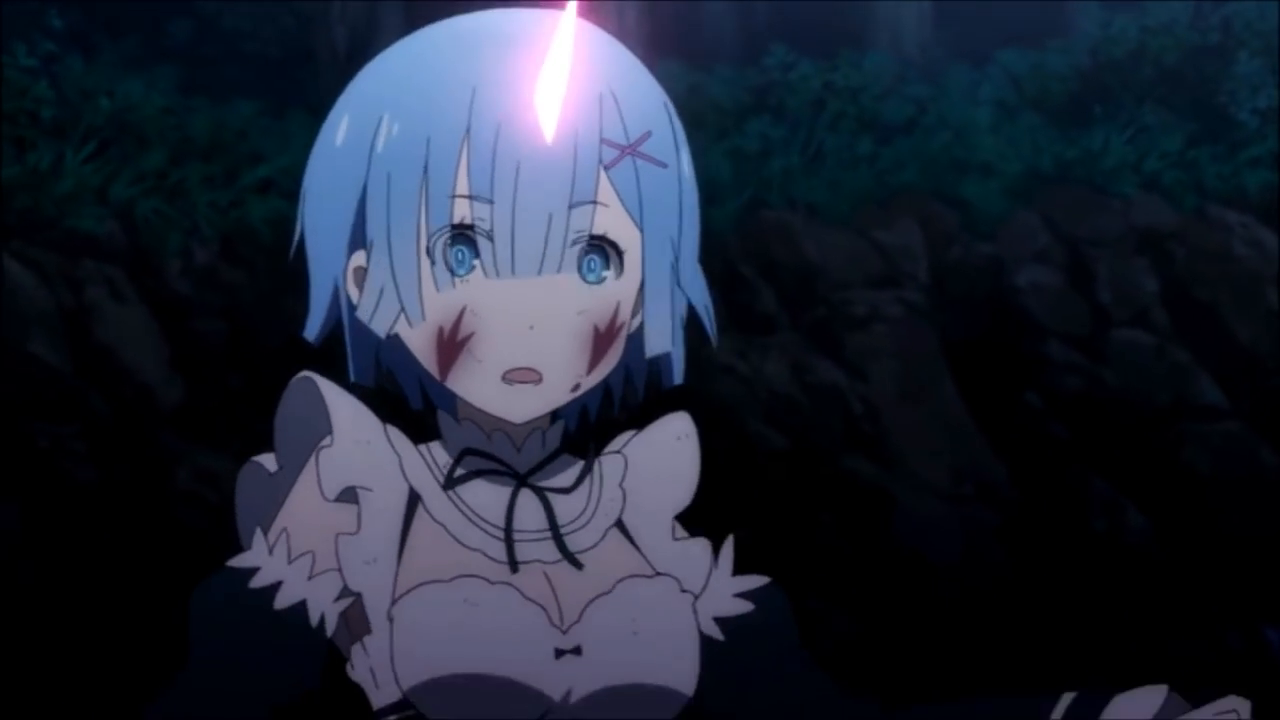REM: (293, 1, 724, 435)
